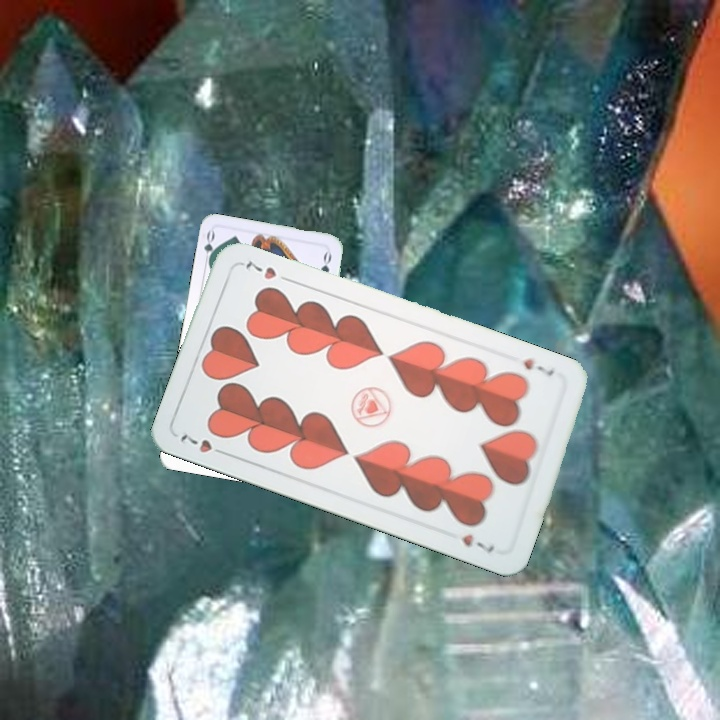GO: (200, 227, 219, 268)
H7: (176, 430, 231, 459), (519, 353, 557, 379)
